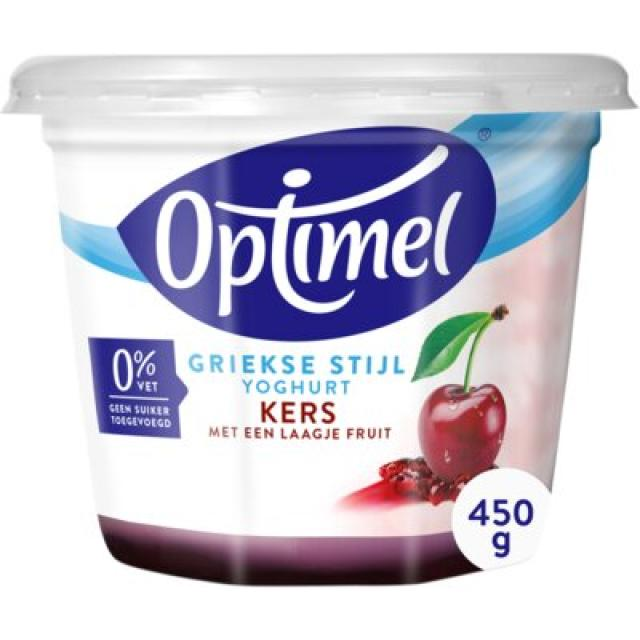yoghurt: (0, 50, 639, 587)
